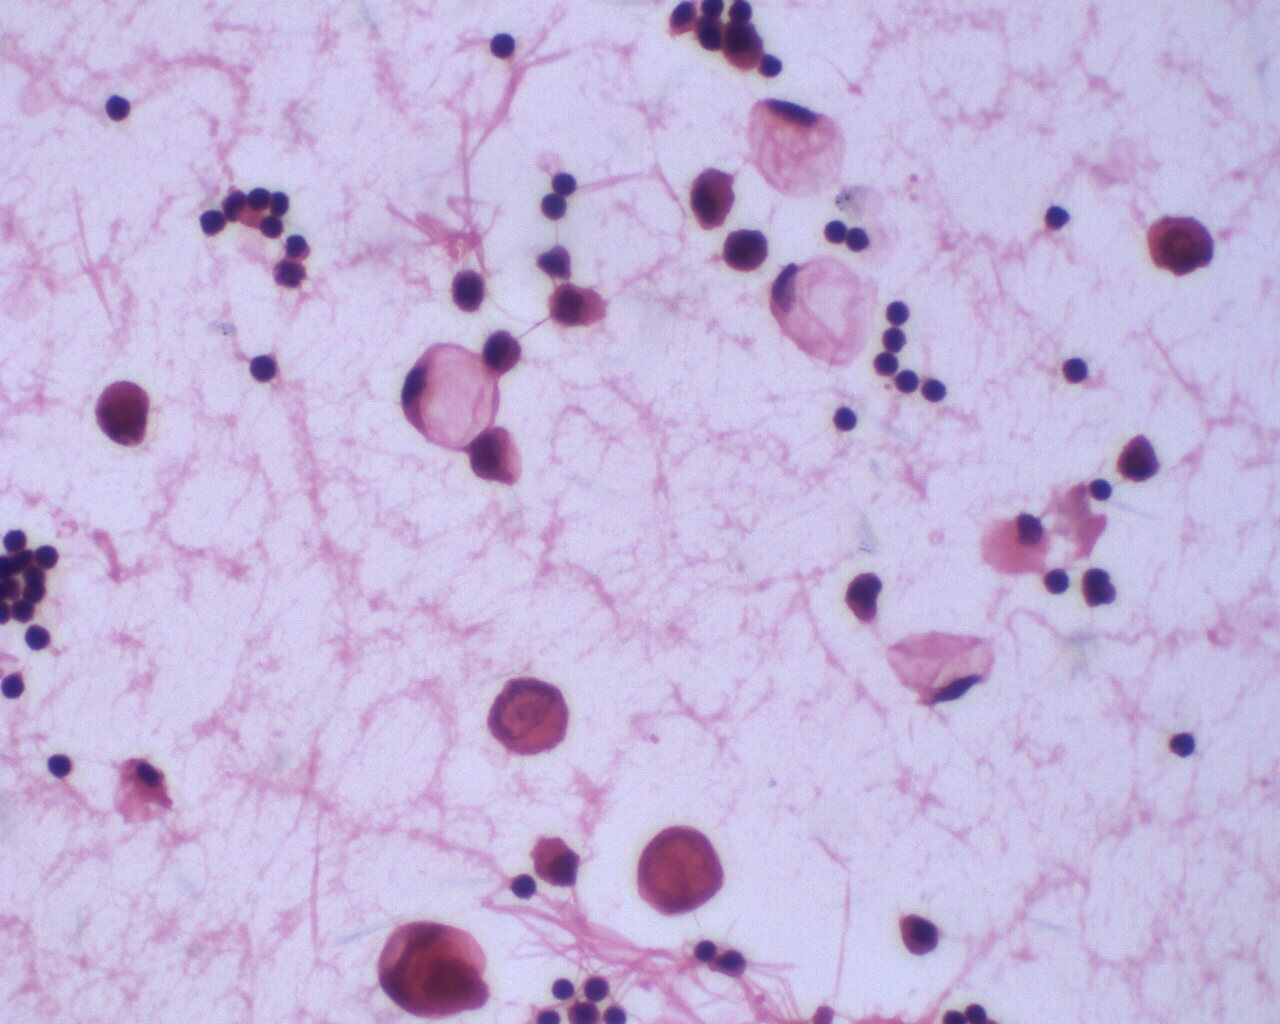ab: (376, 917, 499, 1023), (627, 822, 726, 921), (481, 677, 574, 761), (91, 373, 166, 456), (1146, 208, 1220, 285), (719, 229, 769, 272)
histo: (760, 256, 881, 366), (746, 90, 848, 207), (401, 340, 508, 451), (878, 623, 998, 706)
lymph: (101, 88, 141, 126), (485, 27, 526, 65), (535, 190, 579, 225), (1035, 565, 1074, 601), (1166, 726, 1203, 762), (828, 398, 863, 435), (245, 349, 280, 385), (1061, 353, 1091, 388), (920, 371, 949, 406), (1087, 470, 1113, 509)
